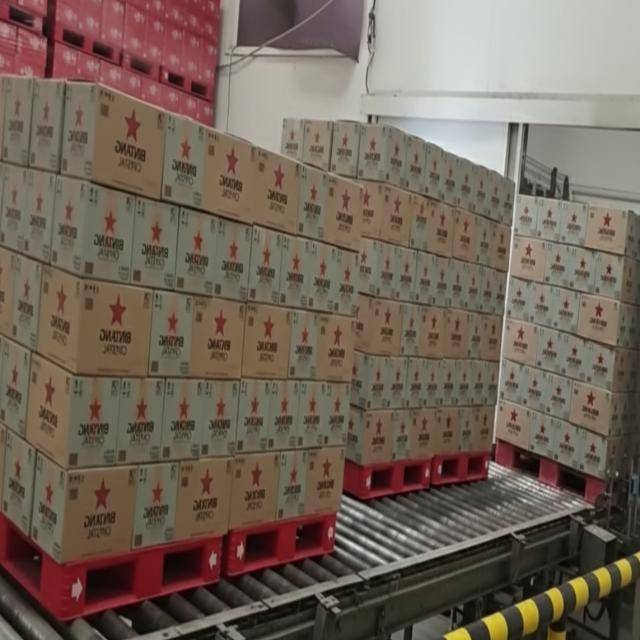pallet: (0, 46, 227, 624), (279, 110, 435, 512), (228, 122, 360, 583), (503, 175, 640, 528), (434, 132, 514, 498)
